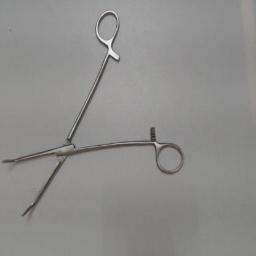Lahey Forceps: (2, 6, 186, 222)
